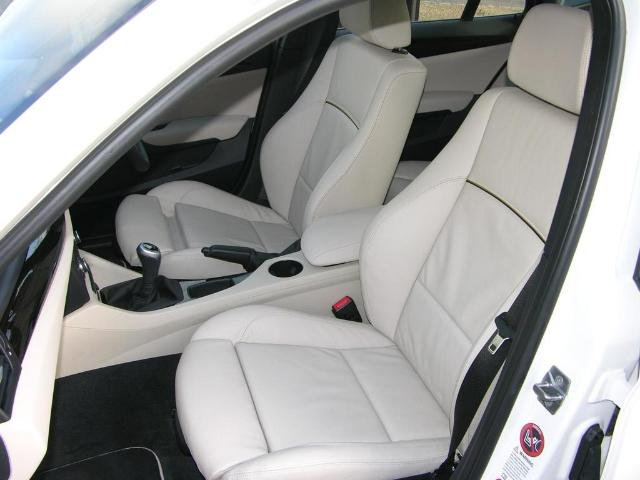Seatbelt: (435, 272, 535, 476)
